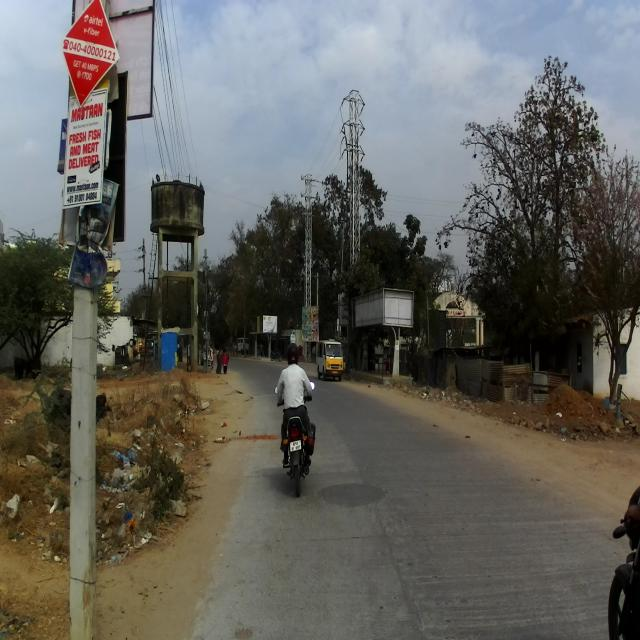electric pole ahead at: (49, 0, 171, 640)
motorcycle ahead at: (274, 412, 316, 499)
